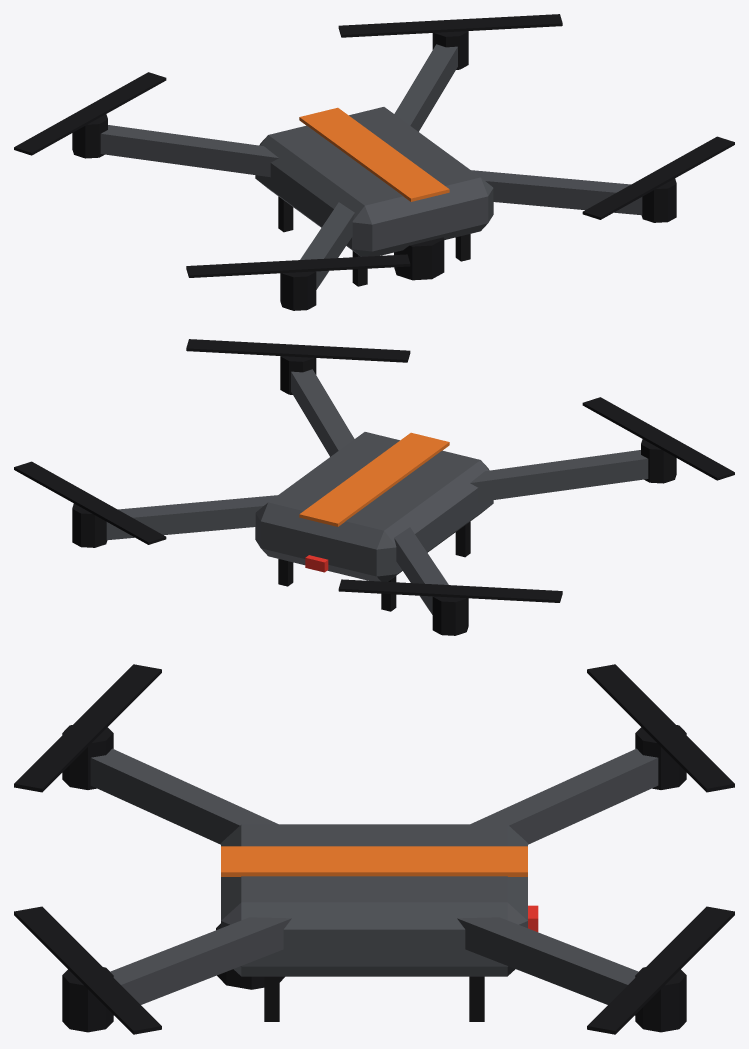
Rendered from kit.drone.glb.
The picture shows the model from 3 angles, top to bottom: view 1: azimuth 30°, elevation 25°; view 2: azimuth 150°, elevation 25°; view 3: azimuth 270°, elevation 25°; orthographic projection. The views are drawn at different scales.
Parts seen in each view (by area): view 1: body, arm-1-1, stripe, arm11, prop1-1, prop-11, arm1-1, prop-1-1, prop11, arm-11, camera, motor-11 (+3 smaller); view 2: body, arm-11, stripe, arm1-1, prop11, prop-1-1, arm11, prop-11, prop1-1, arm-1-1, motor-1-1, motor1-1 (+2 smaller); view 3: body, stripe, arm1-1, arm11, arm-1-1, arm-11, prop-1-1, prop-11, prop1-1, prop11, motor1-1, motor11 (+5 smaller).
Boxes of the visible parts, x1,y1,x2,y2 form: body: [255, 107, 493, 256]; arm-1-1: [100, 125, 278, 177]; stripe: [299, 107, 449, 201]; arm11: [471, 170, 642, 215]; prop1-1: [338, 14, 562, 37]; prop-11: [186, 254, 410, 277]; arm1-1: [394, 44, 457, 131]; prop-1-1: [14, 72, 166, 155]; prop11: [582, 136, 734, 219]; arm-11: [300, 202, 354, 289]; camera: [394, 237, 444, 280]; motor-11: [280, 271, 316, 310]; body: [255, 432, 493, 581]; arm-11: [470, 450, 648, 502]; stripe: [299, 432, 449, 526]; arm1-1: [106, 495, 277, 540]; prop11: [186, 339, 410, 362]; prop-1-1: [338, 579, 562, 602]; arm11: [291, 369, 354, 456]; prop-11: [582, 397, 734, 480]; prop1-1: [14, 461, 166, 544]; arm-1-1: [394, 527, 448, 614]; motor-1-1: [432, 596, 468, 635]; motor1-1: [72, 503, 107, 547]; body: [221, 824, 527, 976]; stripe: [221, 846, 527, 876]; arm1-1: [457, 917, 638, 1015]; arm11: [110, 917, 291, 1015]; arm-1-1: [470, 748, 658, 844]; arm-11: [90, 748, 278, 844]; prop-1-1: [587, 664, 734, 792]; prop-11: [14, 664, 161, 792]; prop1-1: [587, 906, 734, 1034]; prop11: [14, 906, 161, 1034]; motor1-1: [635, 967, 686, 1032]; motor11: [62, 967, 113, 1032].
Bounding box in the file's own units: 0.848 × 0.147 × 0.7045.
